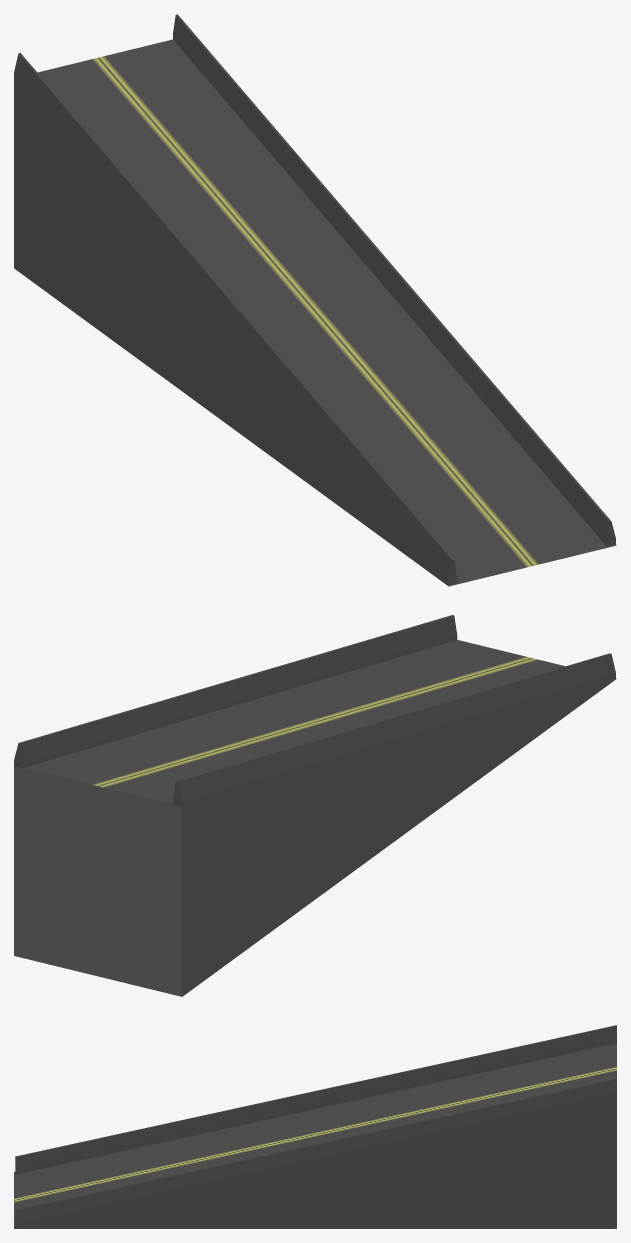
The model's file is ramp.glb.
3 renders of one model, top to bottom at view 1: azimuth 30°, elevation 25°; view 2: azimuth 150°, elevation 25°; view 3: azimuth 270°, elevation 25°, orthographic. The views are drawn at different scales.
Visible parts, largest first — view 1: Cylinder.010; view 2: Cylinder.010; view 3: Cylinder.010.
Boxes of the visible parts, left/top/right/bottom form: Cylinder.010: left=14, top=14, right=616, bottom=586; Cylinder.010: left=14, top=615, right=616, bottom=996; Cylinder.010: left=14, top=1025, right=616, bottom=1228.
Bounding box in the file's own units: 31.28 × 38.02 × 140.
